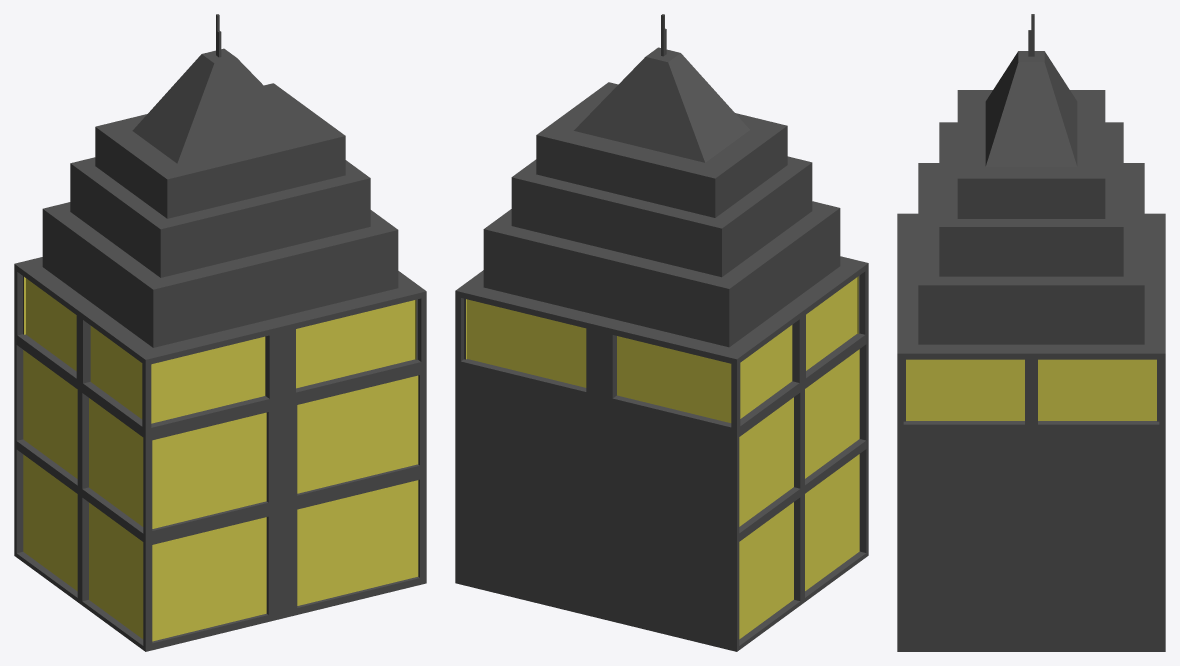
The model's file is OfficeTop1.fbx.
3 views of the same model, side by side, from view 1: azimuth 30°, elevation 25°; view 2: azimuth 150°, elevation 25°; view 3: azimuth 270°, elevation 25° (orthographic). The views are drawn at different scales.
Visible parts, largest first — view 1: Cube.003; view 2: Cube.003; view 3: Cube.003.
Part boxes in pixels (x1,y1,x2,y2): Cube.003: [14, 14, 426, 651]; Cube.003: [455, 14, 868, 651]; Cube.003: [897, 14, 1165, 651].
Size of the model in its own units: 2096 by 3951 by 1697.
